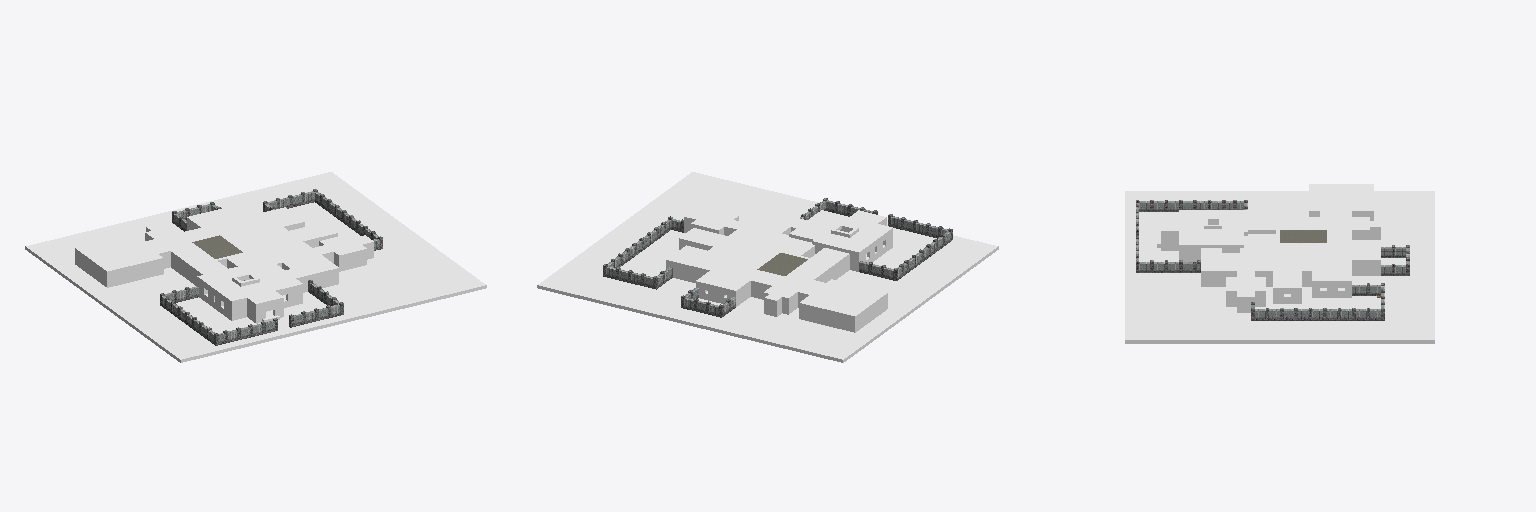
3 views of the same model, side by side, from view 1: azimuth 30°, elevation 25°; view 2: azimuth 150°, elevation 25°; view 3: azimuth 270°, elevation 25° (orthographic).
Visible parts, largest first — view 1: Zombie_Exodus_Maps__146_3_102_to_243_255_187; view 2: Zombie_Exodus_Maps__146_3_102_to_243_255_187; view 3: Zombie_Exodus_Maps__146_3_102_to_243_255_187.
Boxes of the visible parts, x1,y1,x2,y2 form: Zombie_Exodus_Maps__146_3_102_to_243_255_187: [25, 172, 486, 362]; Zombie_Exodus_Maps__146_3_102_to_243_255_187: [537, 172, 998, 362]; Zombie_Exodus_Maps__146_3_102_to_243_255_187: [1125, 184, 1434, 343].
Size of the model in its own units: 98 by 8 by 86.
Materials: 15 (4 with a texture image).